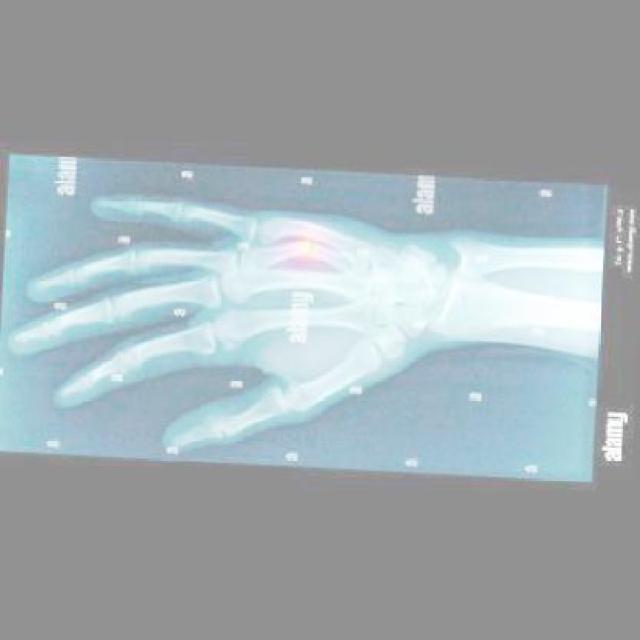Fracture: (288, 240, 321, 268)
